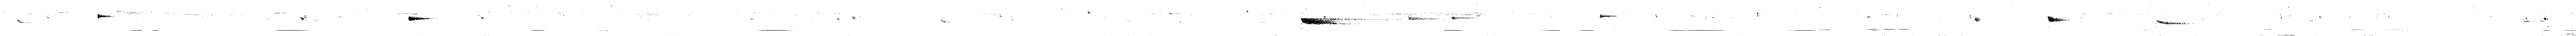meteor: (1299, 18, 1362, 25), (2157, 20, 2188, 25), (1408, 15, 1439, 20), (2047, 16, 2068, 23), (409, 16, 432, 21), (97, 13, 113, 20), (1451, 16, 1474, 20), (1598, 15, 1618, 18), (940, 18, 950, 23), (16, 20, 26, 23)
